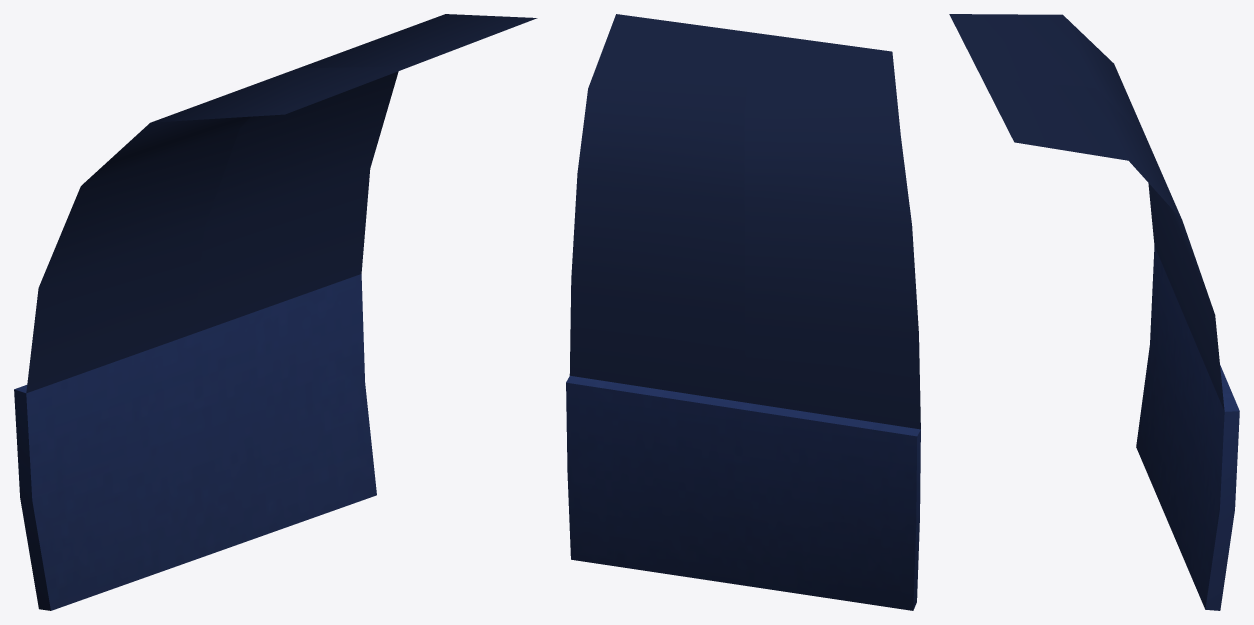
Rendered from SM_Door_Left_and_Right.FBX.
3 views of the same model, side by side, from view 1: azimuth 30°, elevation 25°; view 2: azimuth 150°, elevation 25°; view 3: azimuth 270°, elevation 25° (orthographic). The views are drawn at different scales.
Parts seen in each view (by area): view 1: SM_Door_Left_and_Right; view 2: SM_Door_Left_and_Right; view 3: SM_Door_Left_and_Right.
Boxes of the visible parts, x1,y1,x2,y2 form: SM_Door_Left_and_Right: (14,14,537,610); SM_Door_Left_and_Right: (566,14,920,610); SM_Door_Left_and_Right: (949,14,1239,610).
Bounding box in the file's own units: 389 × 461 × 245.
